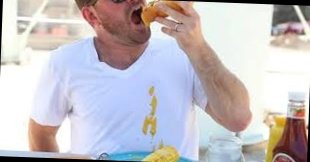mustard: (147, 87, 163, 138), (141, 112, 158, 136)
